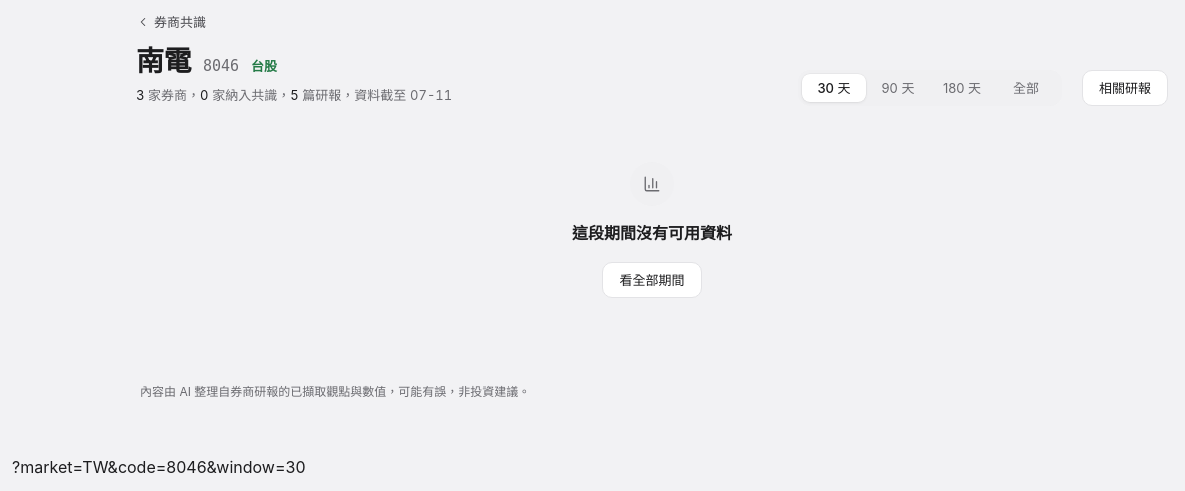
Test case: RadarPage › window_empty 提供「看全部期間」
The width and height of the screenshot is (1185, 491).
Click the button "看全部期間" at (652, 280), box [602,262,702,298]
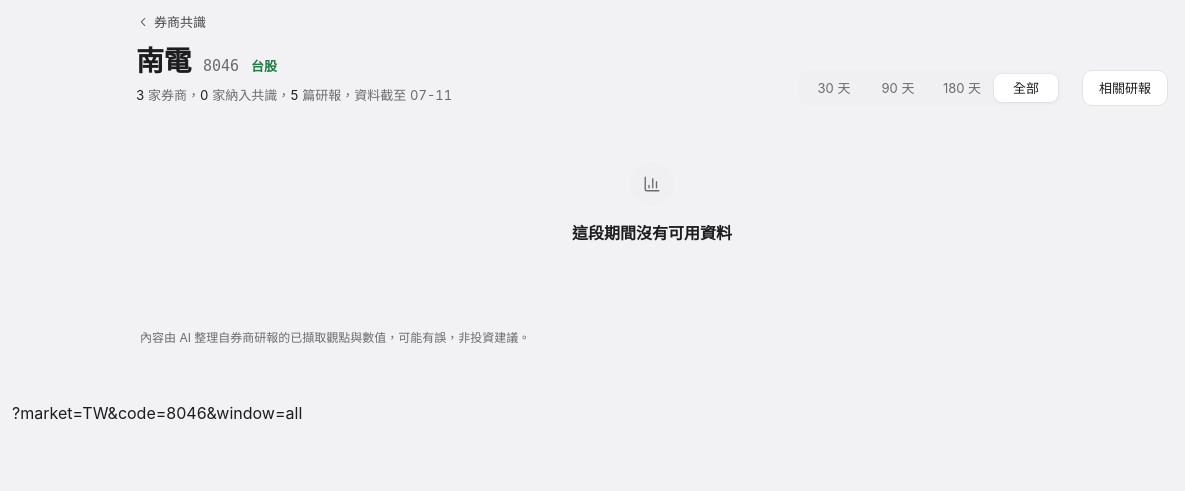
Check: the text with test id "radar-search" shows "window=all", box [12,403,302,423]
